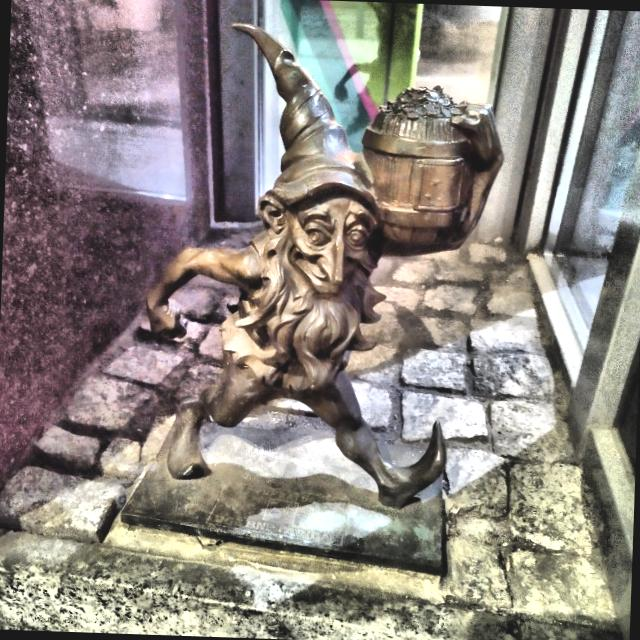Leprykonus: (130, 9, 527, 521)
